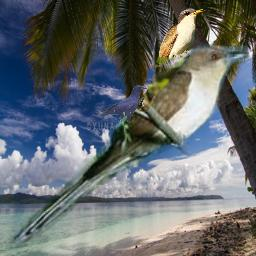Crow: (97, 85, 147, 126)
Cuckoo: (8, 43, 254, 252), (136, 6, 207, 114)
